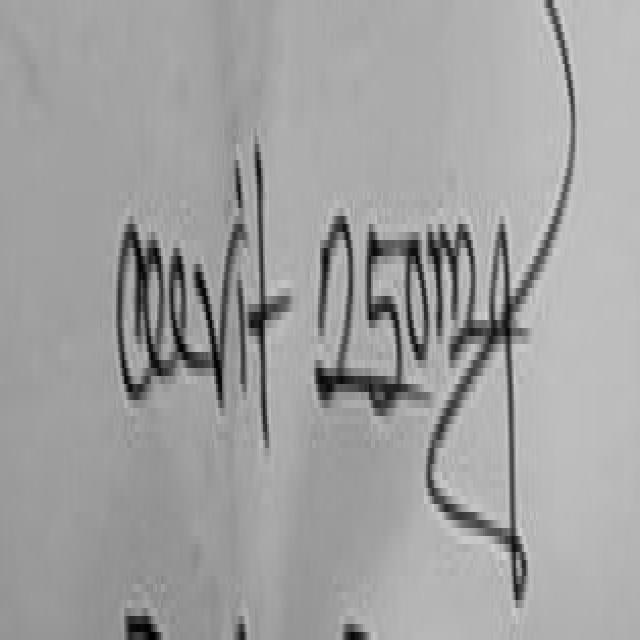0: (404, 240, 430, 356)
2: (316, 216, 369, 396)
5: (369, 224, 408, 404)
C: (116, 224, 151, 396)
e: (143, 232, 177, 376), (168, 241, 206, 367)
g: (427, 0, 579, 604)
i: (239, 280, 247, 388), (235, 152, 241, 218)
m: (425, 209, 477, 356)
t: (246, 144, 291, 452)
v: (196, 216, 247, 404)
